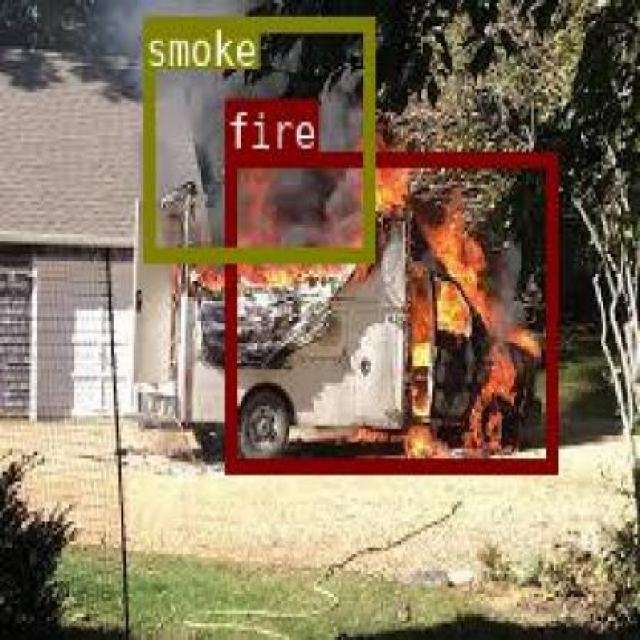Fire: (222, 150, 555, 472)
Smoke: (142, 13, 372, 258)
